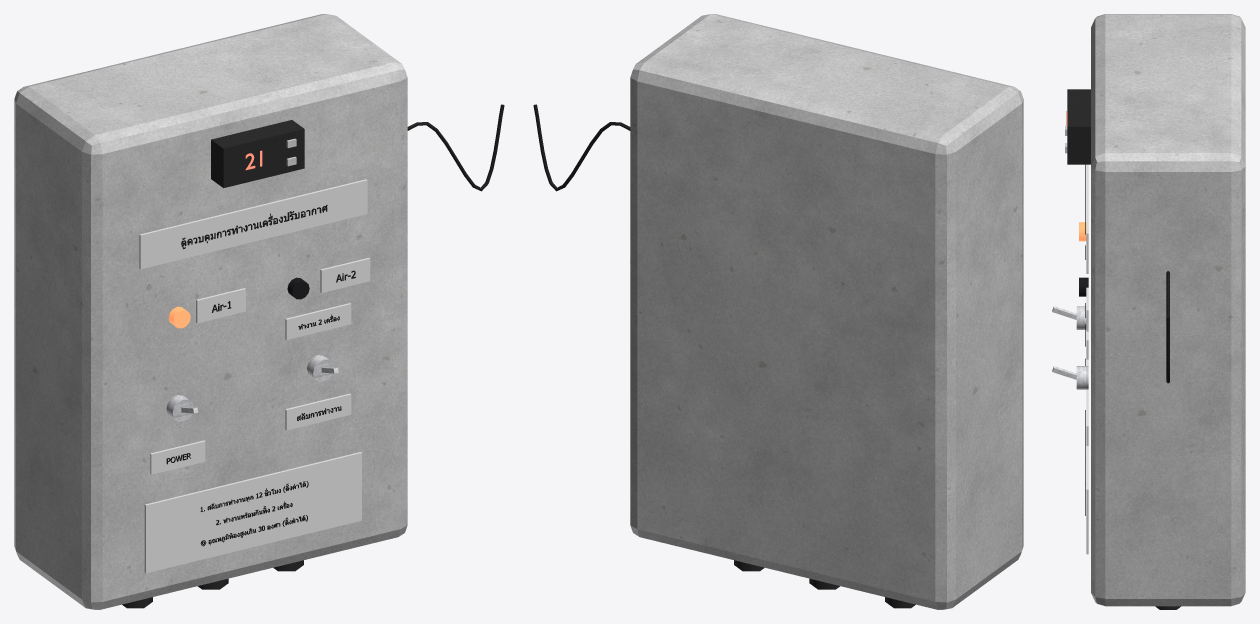
The model's file is C17_AC_Alternating_Controller.fbx.
The picture shows the model from 3 angles, left to right: view 1: azimuth 30°, elevation 25°; view 2: azimuth 150°, elevation 25°; view 3: azimuth 270°, elevation 25°; orthographic projection. The views are drawn at different scales.
Parts seen in each view (by area): view 1: Body.005, Lbl_Instr, Lbl_Title, Thermostat, Lbl_Mode_Top, Lbl_Toggle_Mode, Lbl_Air2, Lbl_Toggle_Power, Lbl_Air1, Sensor_Wire, Lbl_Title_t; view 2: Body.005, Sensor_Wire; view 3: Body.005, Thermostat, Sensor_Wire, Lbl_Instr, Toggle_Mode_Base, Lbl_Title.
Boxes of the visible parts, x1,y1,x2,y2 form: Body.005: [14, 14, 407, 609]; Lbl_Instr: [144, 452, 361, 573]; Lbl_Title: [139, 179, 367, 269]; Thermostat: [211, 120, 304, 188]; Lbl_Mode_Top: [285, 303, 351, 339]; Lbl_Toggle_Mode: [285, 393, 351, 430]; Lbl_Air2: [320, 258, 370, 292]; Lbl_Toggle_Power: [150, 440, 205, 474]; Lbl_Air1: [196, 288, 245, 323]; Sensor_Wire: [407, 104, 504, 191]; Lbl_Title_t: [181, 205, 327, 249]; Body.005: [630, 14, 1023, 609]; Sensor_Wire: [533, 104, 630, 191]; Body.005: [1091, 14, 1245, 606]; Thermostat: [1067, 89, 1090, 164]; Sensor_Wire: [1166, 271, 1169, 383]; Lbl_Instr: [1086, 389, 1088, 554]; Toggle_Mode_Base: [1076, 366, 1088, 389]; Lbl_Title: [1086, 164, 1088, 265].
Size of the model in its own units: 0.4215 by 0.45 by 0.1624.
Materials: 9 (3 with a texture image).
